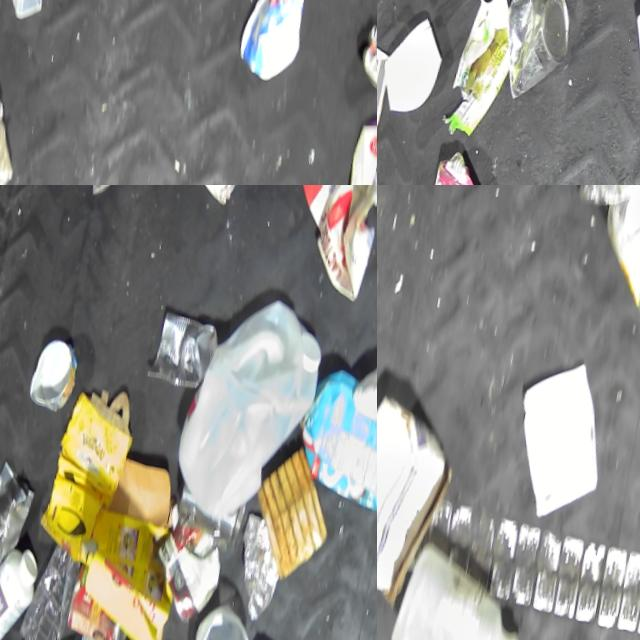can: (146, 497, 236, 635), (487, 0, 577, 109), (142, 292, 219, 398), (17, 312, 86, 423), (0, 453, 34, 574), (218, 624, 291, 640), (93, 621, 151, 640)
milk_jug: (156, 269, 334, 537), (377, 516, 539, 640), (607, 0, 640, 160), (0, 0, 55, 24)
non_white_jug: (44, 475, 184, 640), (36, 611, 108, 640)
plastic_bottle: (573, 185, 640, 377), (9, 526, 82, 640)
